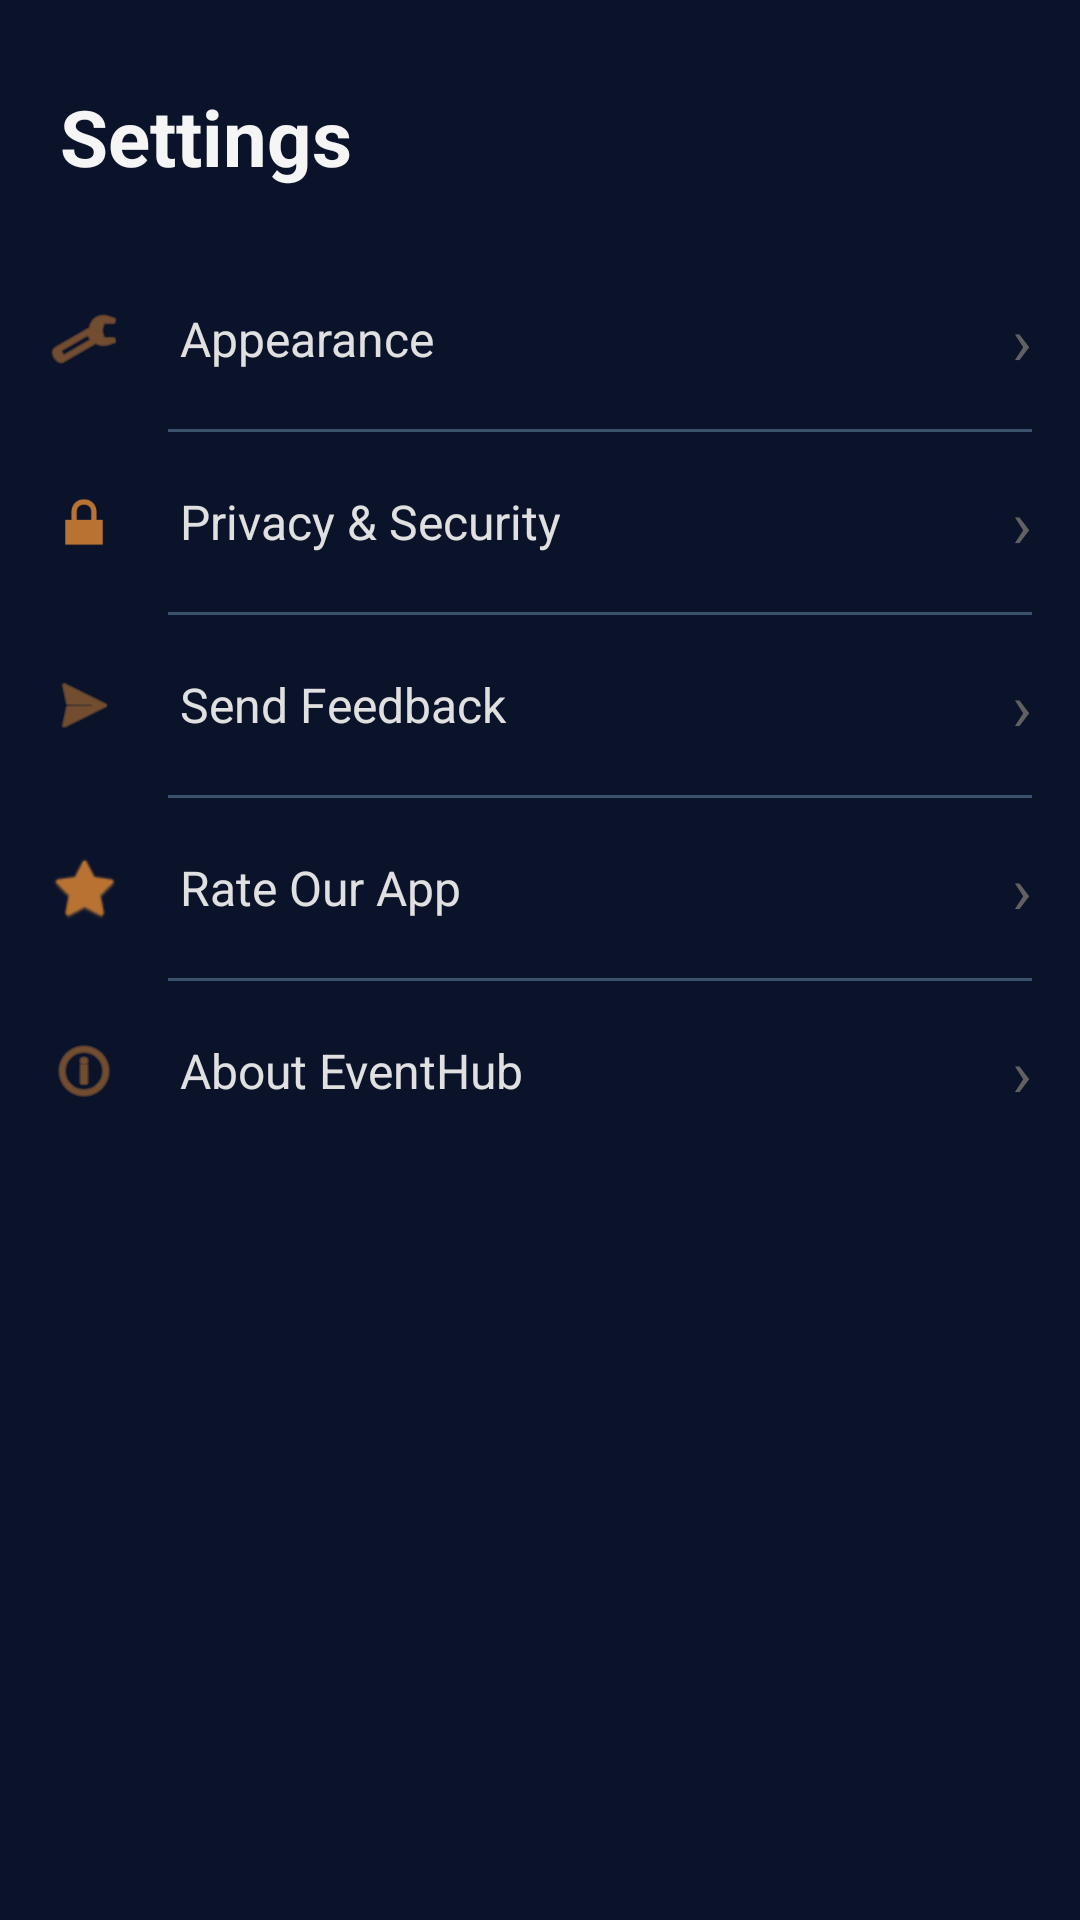

Icon bounding boxes for this 1080px x 1920px phone screenshot, format (x1, y1, x2, y2):
info details: (58, 1045, 110, 1097)
lock: (65, 499, 103, 545)
manage: (52, 314, 116, 364)
star on: (55, 859, 115, 918)
